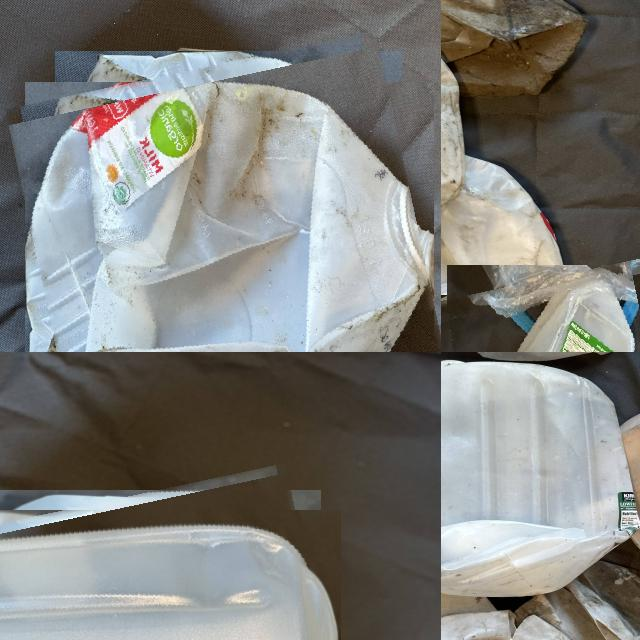milk-jug: (22, 47, 436, 352), (0, 480, 349, 640), (441, 362, 636, 597), (441, 137, 550, 352), (441, 268, 640, 352), (441, 0, 587, 100)
